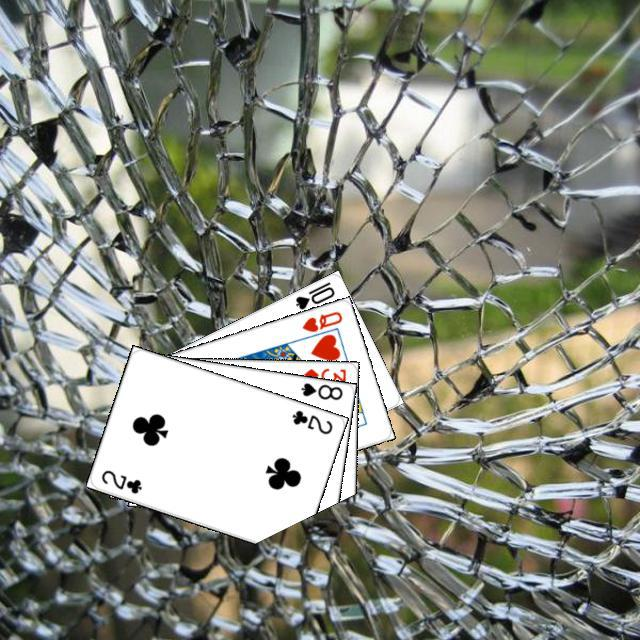10s: (290, 277, 336, 311)
2c: (287, 405, 334, 436), (96, 465, 144, 495)
3d: (299, 363, 348, 385)
8s: (296, 378, 344, 402)
Qh: (297, 306, 344, 334)
